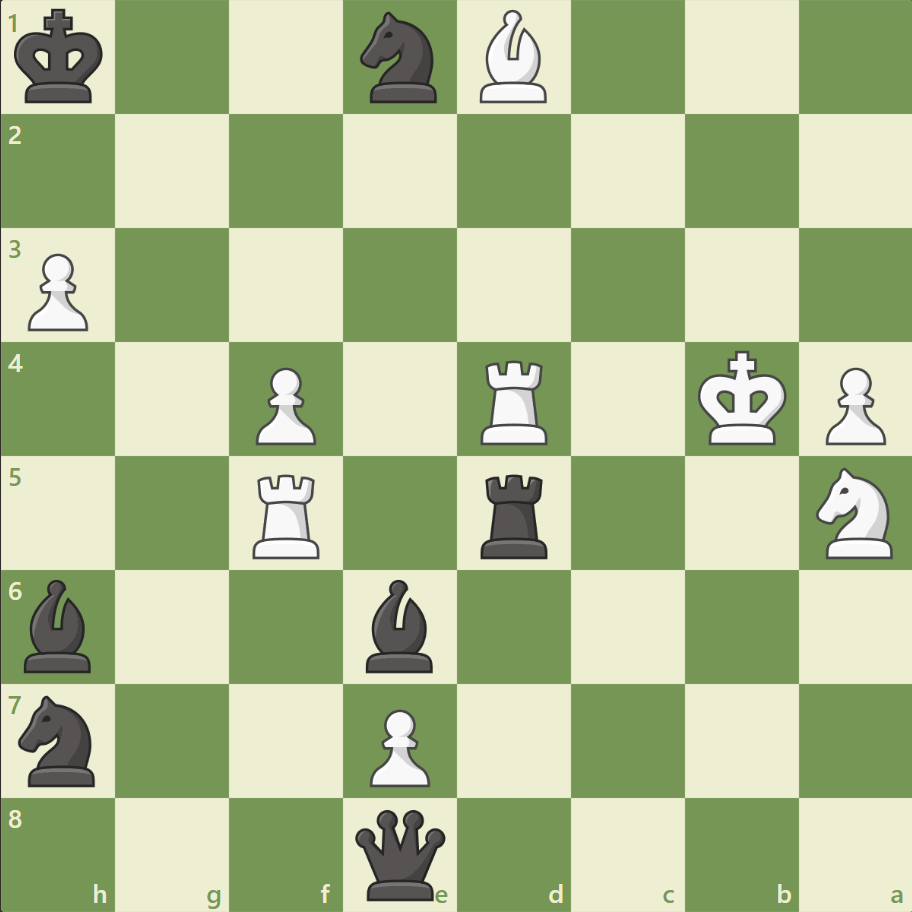B: (471, 6, 555, 109)
K: (692, 344, 792, 452)
N: (806, 461, 903, 564)
P: (247, 359, 322, 450), (20, 246, 95, 337), (361, 700, 435, 791), (815, 359, 889, 450)
R: (246, 466, 329, 563), (473, 352, 556, 449)
b: (358, 574, 442, 676), (17, 574, 101, 676)
k: (11, 4, 111, 112)
n: (351, 7, 449, 110), (11, 688, 108, 791)
q: (351, 804, 450, 903)
r: (473, 466, 556, 563)
